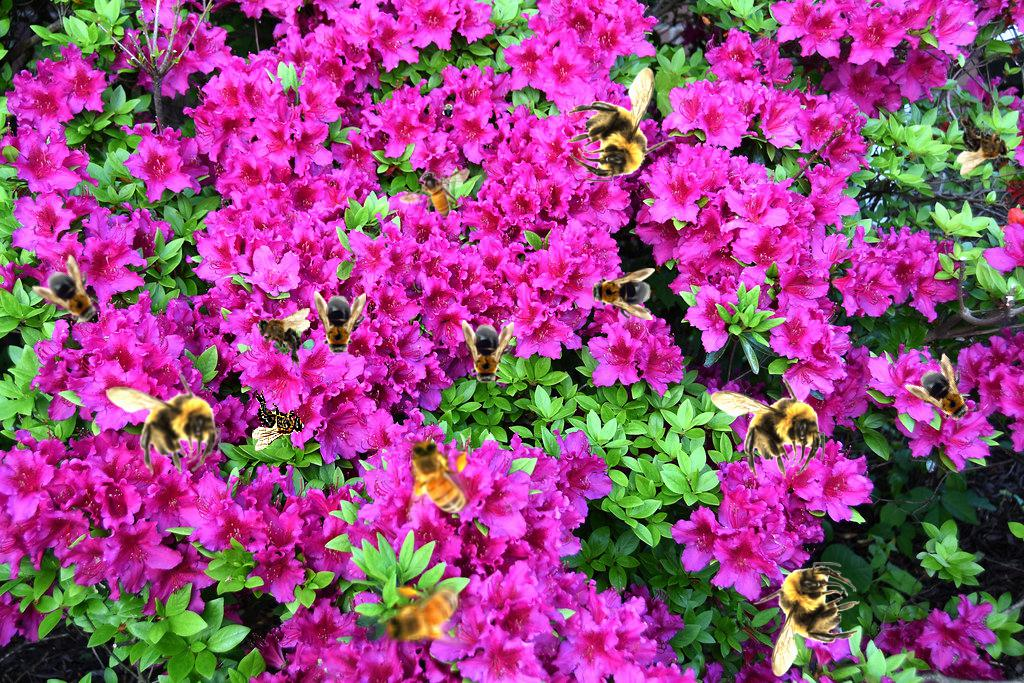Bee: (106, 368, 221, 475), (710, 372, 825, 479), (566, 67, 673, 182), (753, 562, 860, 677), (903, 351, 989, 437), (30, 252, 116, 338), (379, 582, 472, 650), (403, 433, 471, 526), (250, 299, 313, 371), (399, 168, 470, 218), (314, 291, 366, 359), (587, 268, 655, 320), (462, 320, 514, 388), (957, 113, 1010, 175), (252, 389, 305, 451)
